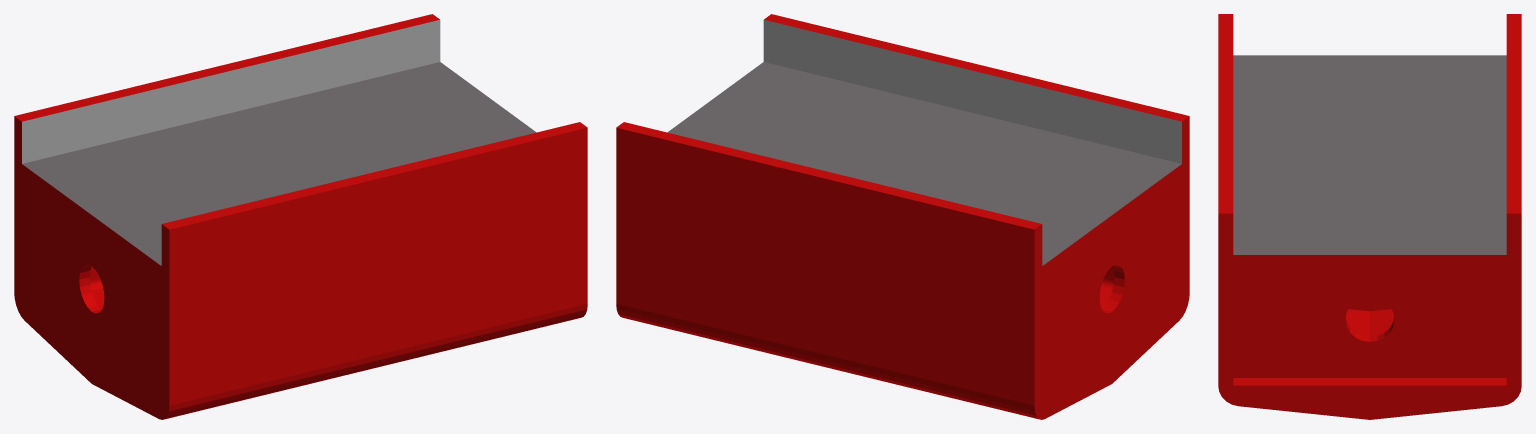
Rendered from cargoHold1.dae.
3 renders of one model, left to right at view 1: azimuth 30°, elevation 25°; view 2: azimuth 150°, elevation 25°; view 3: azimuth 270°, elevation 25°, orthographic. The views are drawn at different scales.
Parts seen in each view (by area): view 1: Cargo_hold; view 2: Cargo_hold; view 3: Cargo_hold.
Boxes of the visible parts, x1,y1,x2,y2 form: Cargo_hold: (14, 14, 587, 419); Cargo_hold: (616, 14, 1189, 419); Cargo_hold: (1218, 14, 1521, 419).
Size of the model in its own units: 62.23 by 40 by 30.
